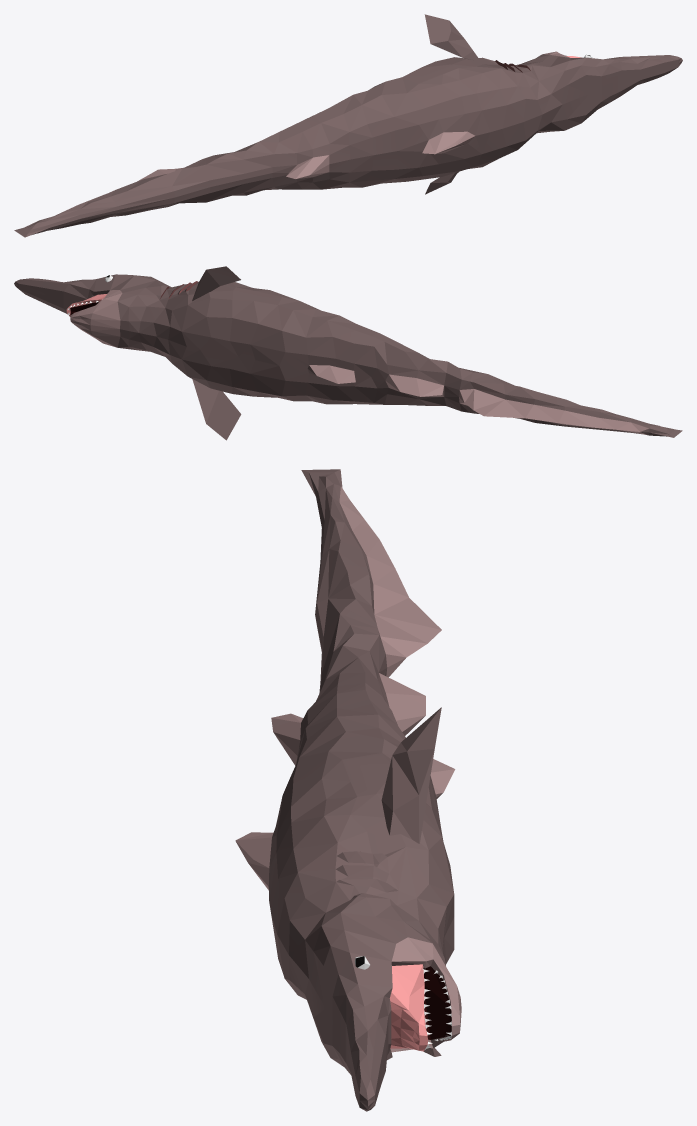
Rendered from GoblinShark.obj.
3 views of the same model, one above another, from view 1: azimuth 30°, elevation 25°; view 2: azimuth 150°, elevation 25°; view 3: azimuth 270°, elevation 25° (orthographic). The views are drawn at different scales.
Visible parts, largest first — view 1: GoblinShark_0; view 2: GoblinShark_0; view 3: GoblinShark_0.
Part boxes in pixels (bbox=[...]): GoblinShark_0: bbox=[14, 14, 682, 237]; GoblinShark_0: bbox=[14, 266, 682, 440]; GoblinShark_0: bbox=[235, 469, 461, 1111].
Bounding box in the file's own units: 3.33 × 0.8501 × 0.5004.
1 material, 1 textured.
